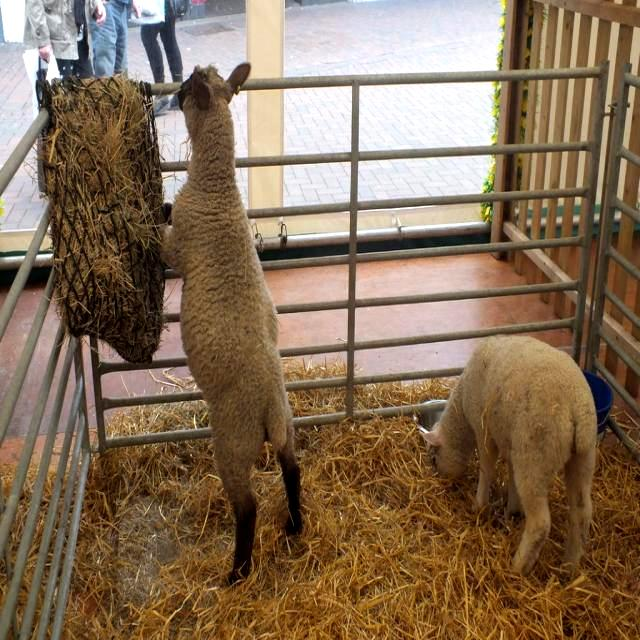sheep: (164, 63, 301, 580), (421, 340, 597, 568)
